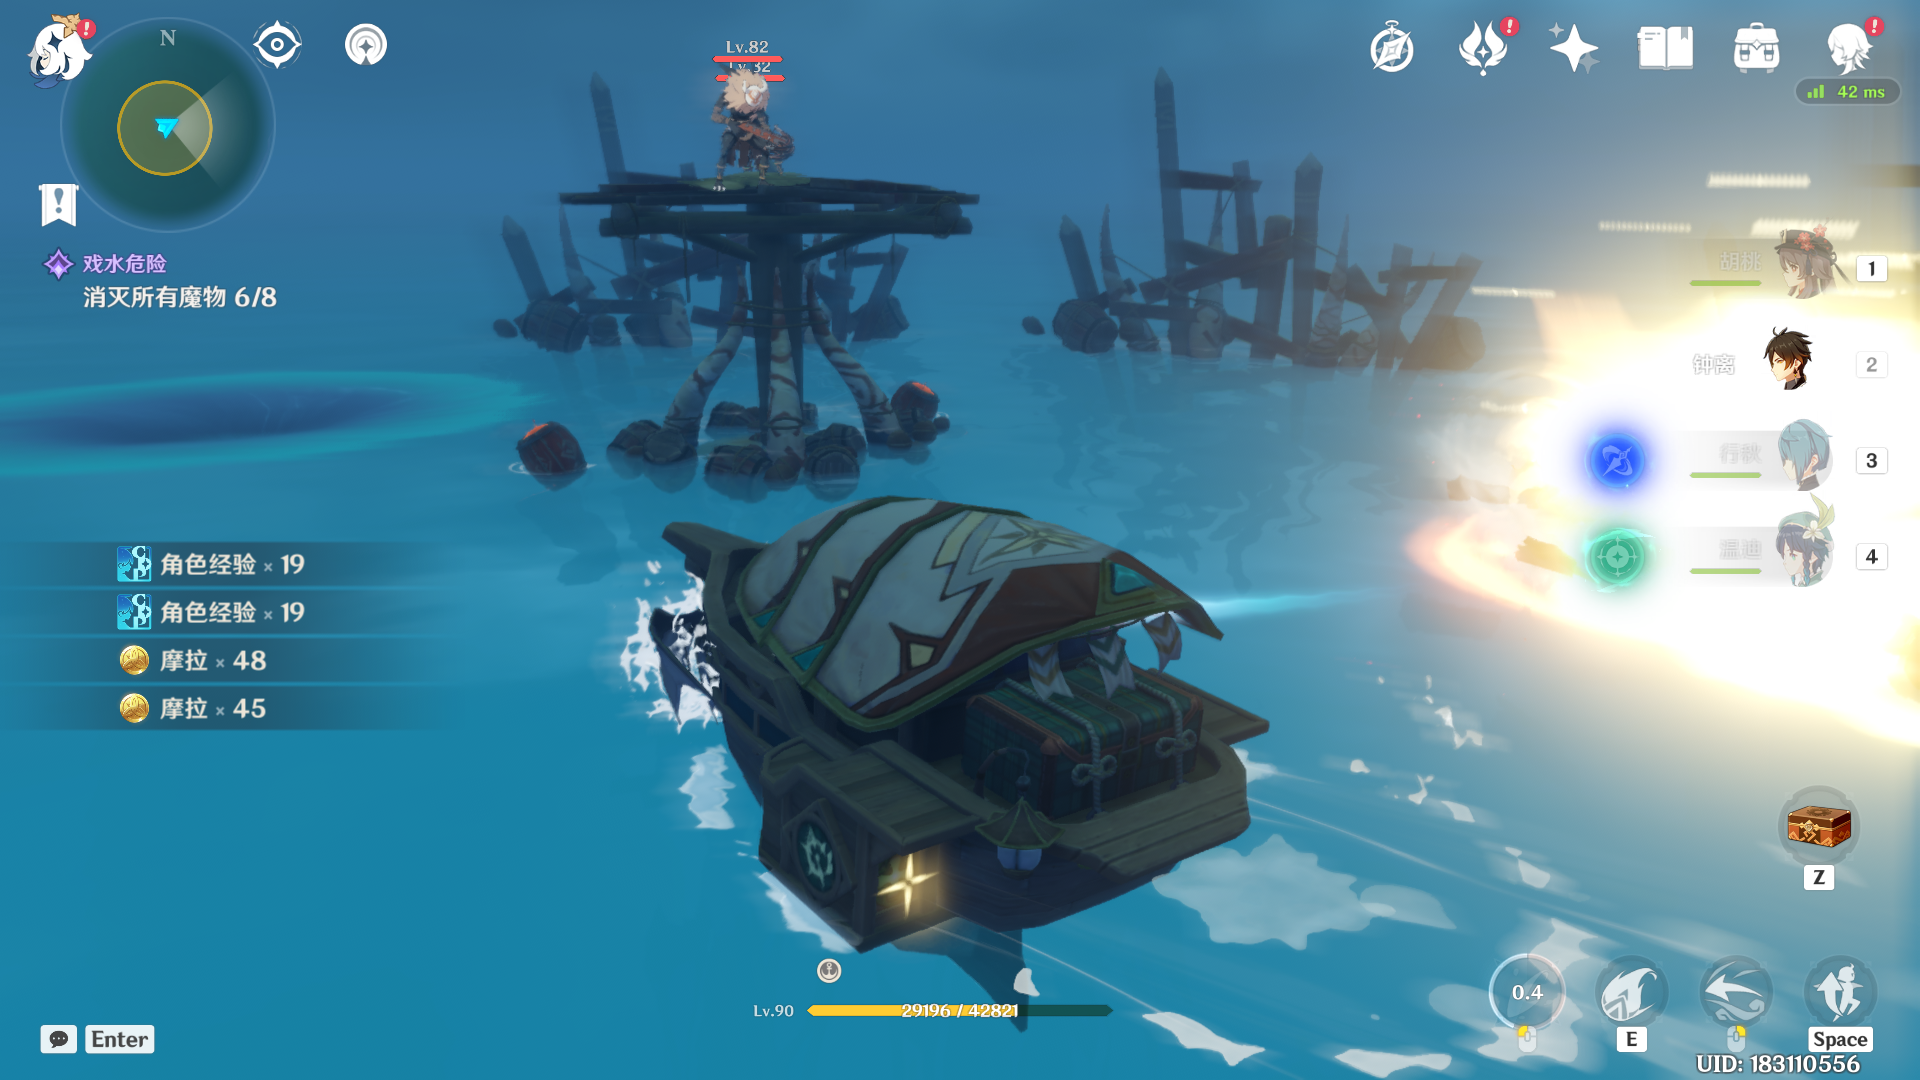hili: (680, 47, 825, 206)
